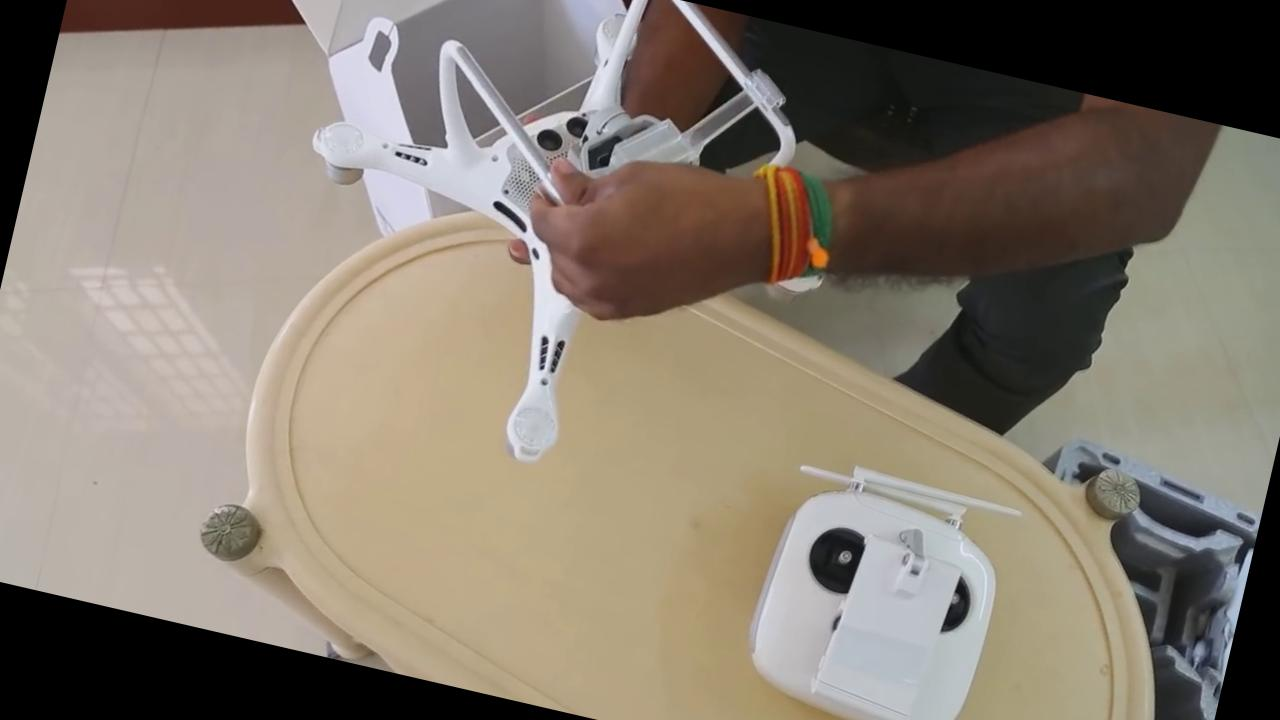drone: (236, 0, 891, 520)
